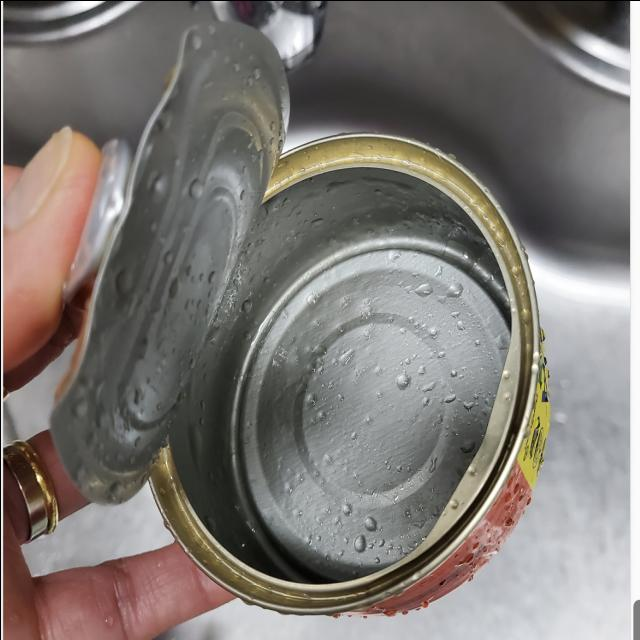can: (64, 21, 576, 622)
